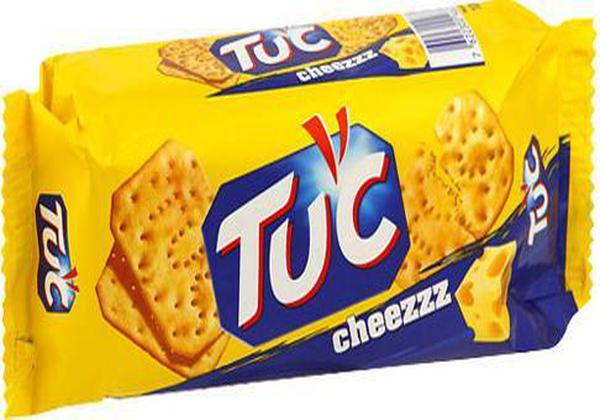crackers tuc: (28, 7, 564, 404)
